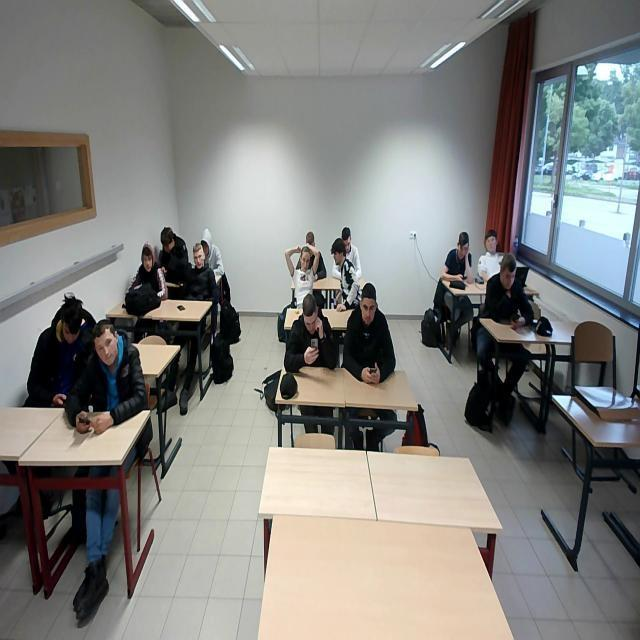phone_use: (64, 319, 145, 431), (24, 292, 94, 405), (342, 282, 394, 382), (283, 293, 336, 371), (480, 255, 531, 323), (158, 226, 188, 297), (440, 231, 472, 281)
